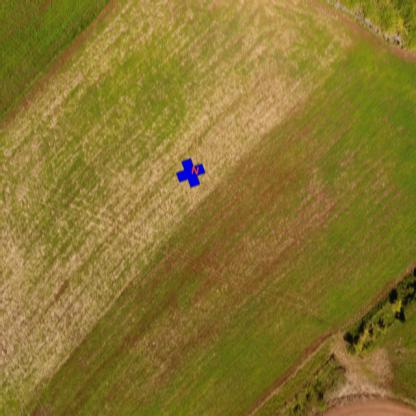N: (190, 165, 200, 176)
plus: (176, 158, 207, 188)
